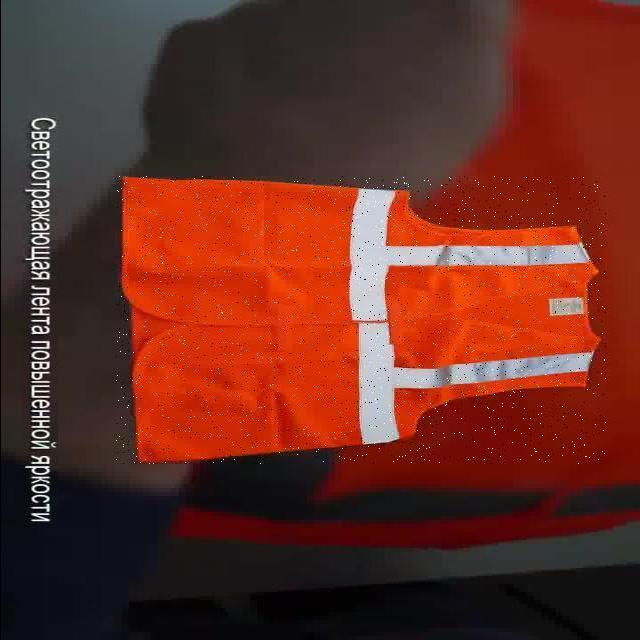vest: (115, 176, 605, 464)
